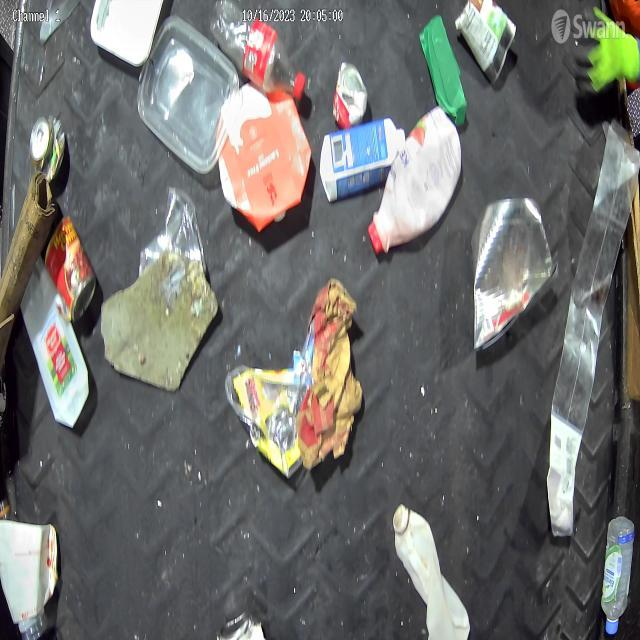can: (44, 212, 98, 324), (332, 60, 369, 130)
milk_jug: (391, 504, 471, 640)
non_white_jug: (368, 106, 463, 258), (218, 88, 313, 234), (318, 118, 406, 203)
plastic_bottle: (210, 0, 306, 99), (600, 514, 636, 636)
